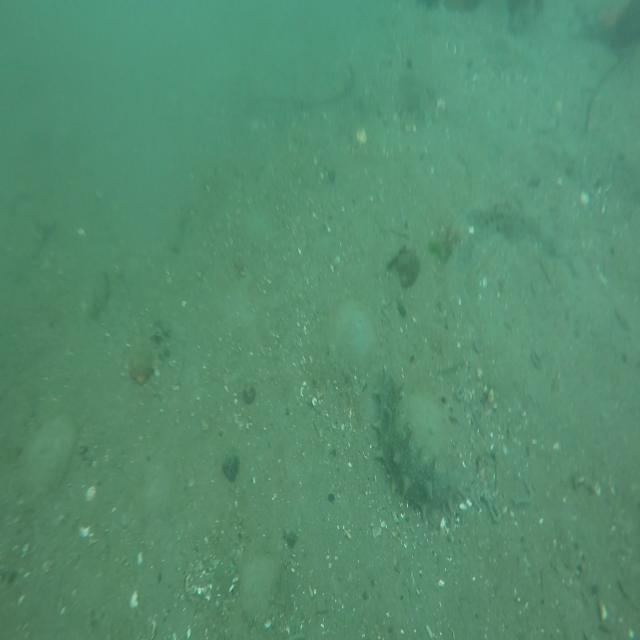holothurian: (372, 370, 466, 517)
